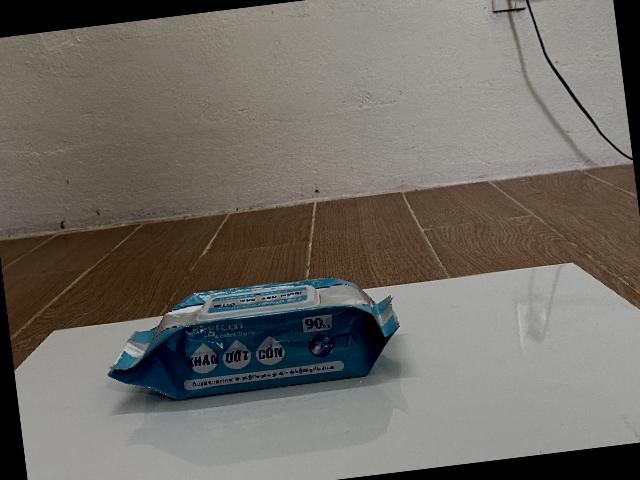Let-green_alcohol_wipes: (107, 278, 399, 400)
